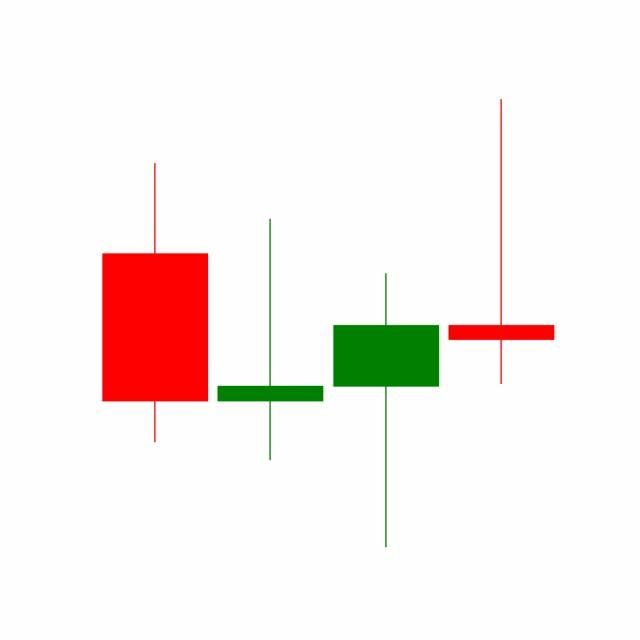Spinning Top: (444, 97, 560, 389)
